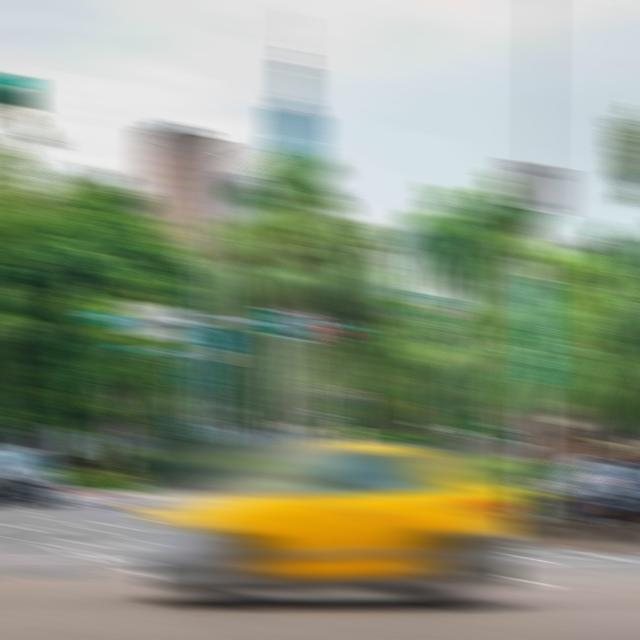Taxi: (142, 440, 520, 608)
